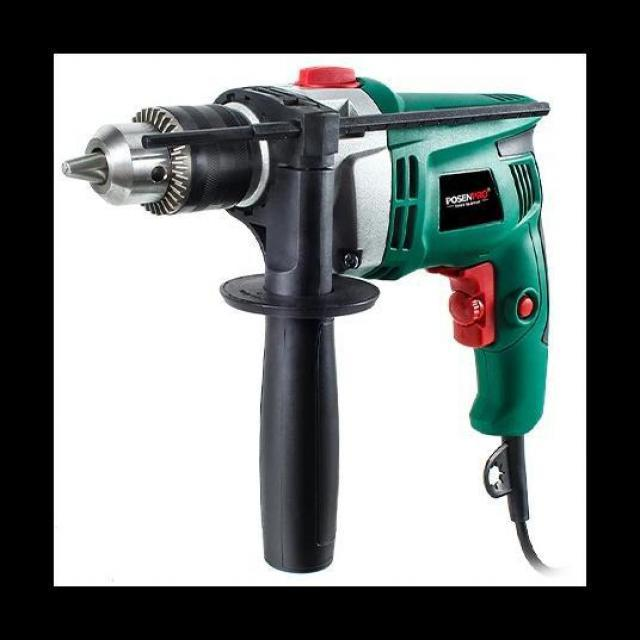drill: (61, 65, 552, 574)
